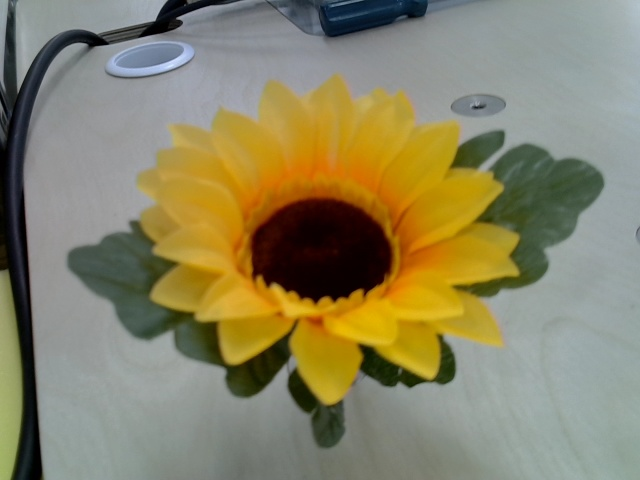해바라기: (140, 74, 514, 403)
